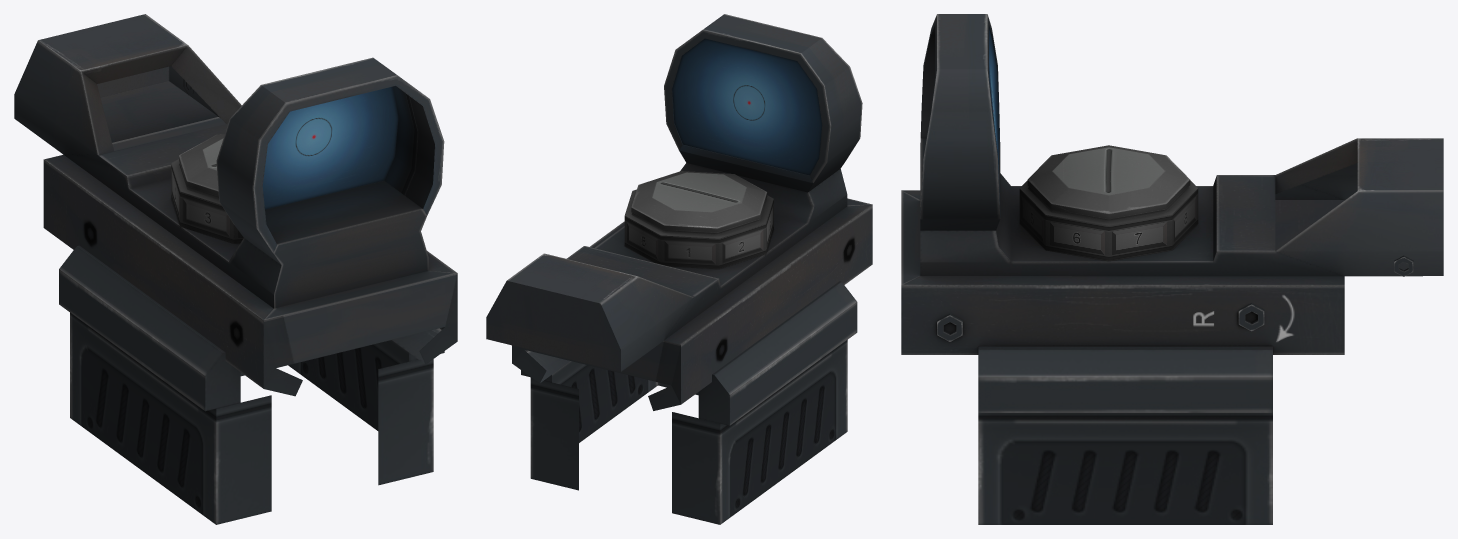
Rendered from Scope.fbx.
3 renders of one model, left to right at view 1: azimuth 30°, elevation 25°; view 2: azimuth 150°, elevation 25°; view 3: azimuth 270°, elevation 25°, orthographic. The views are drawn at different scales.
Parts seen in each view (by area): view 1: polySurface9; view 2: polySurface9; view 3: polySurface9.
Boxes of the visible parts, box(x1,y1,x2,y2) form: polySurface9: box(14, 14, 457, 524); polySurface9: box(486, 14, 872, 524); polySurface9: box(901, 14, 1443, 524).
Size of the model in its own units: 0.6504 by 1.1 by 1.26.
Materials: 1 (1 with a texture image).
